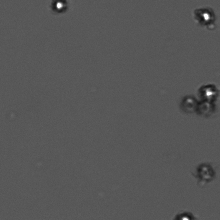Dead Cell: (195, 161, 216, 184), (182, 94, 195, 117), (199, 100, 214, 119)
Living Cell: (194, 4, 216, 27), (199, 80, 217, 103), (49, 1, 70, 16)
